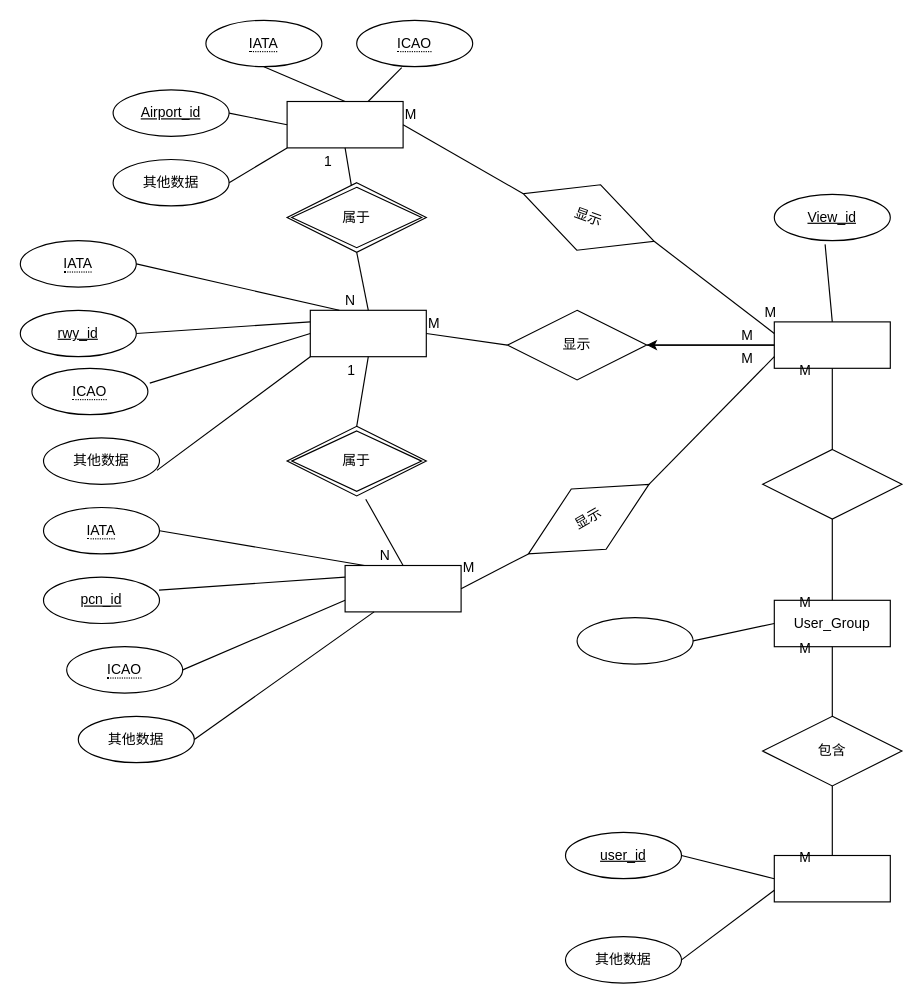
Some shapes in this 922 by 1003 pixel diagram are drawn without their labels. Each missing label, with the centre of its shape:
"Airport" belongs at point 344,124.
"Group_id" belongs at point 634,640.
"Rwy" belongs at point 367,333.
"Seg_Pcn" belongs at point 402,588.
"User" belongs at point 831,878.
"View" belongs at point 831,344.
"访问" belongs at point 832,483.
